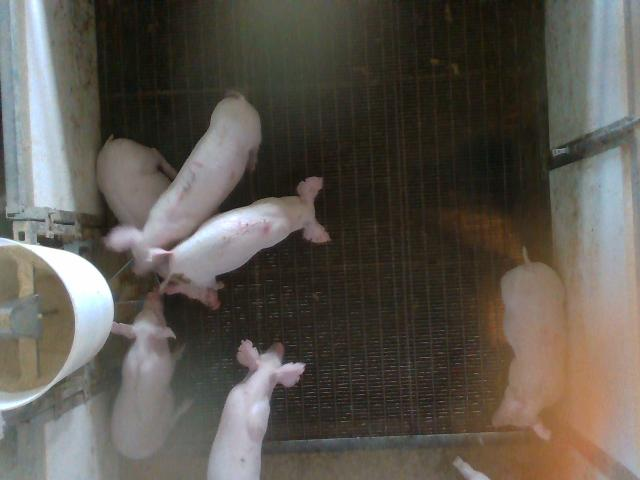pig-3: (105, 95, 261, 273)
pig-5: (149, 178, 330, 309)
